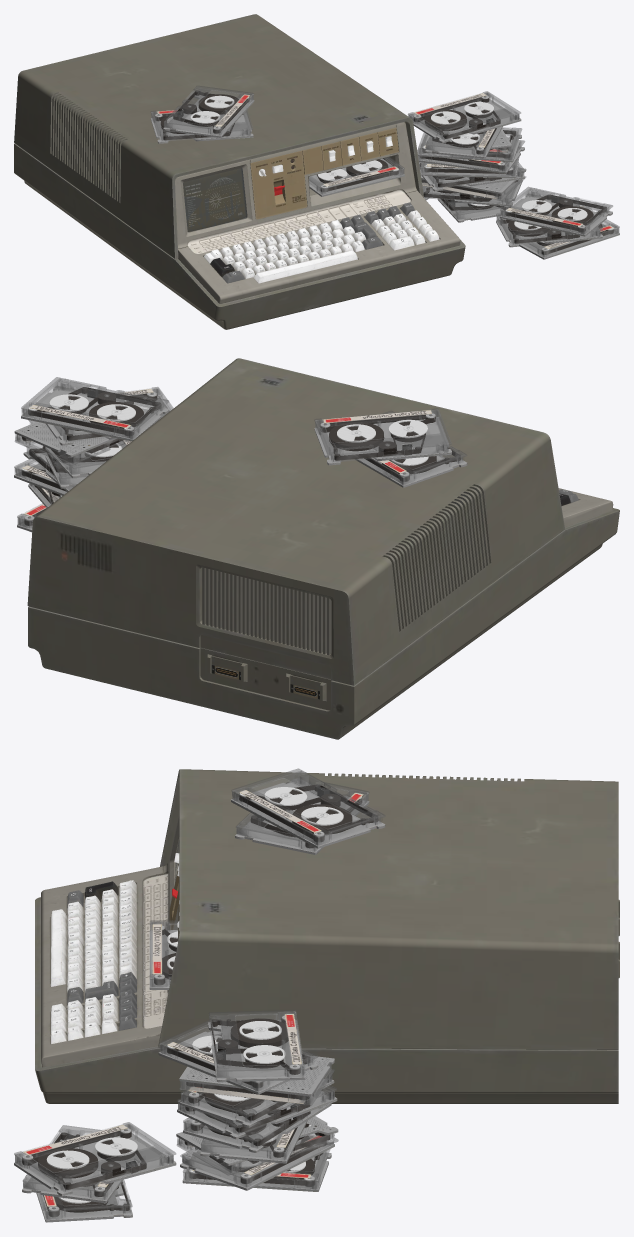
Rendered from ibm5100.web.glb.
3 renders of one model, top to bottom at view 1: azimuth 30°, elevation 25°; view 2: azimuth 150°, elevation 25°; view 3: azimuth 270°, elevation 25°, orthographic. The views are drawn at different scales.
Visible parts, largest first — view 1: IBM5100_Main_low, IBM5100_Front_low, IBM5100_Keys_low, DataCartridge_1_low.002, IBM5100_Glass_low, DataCartridge_2_low3, DataCartridge_2_low.002, DataCartridge_1_low3, DataCartridge_2_low.001, DataCartridge_1_low.001, DataCartridge_1_low.012, DataCartridge_2_low.012 (+22 smaller); view 2: IBM5100_Main_low, IBM5100_Front_low, DataCartridge_1_low.001, DataCartridge_2_low.001, DataCartridge_2_low.002, DataCartridge_1_low.002, DataCartridge_1_low, DataCartridge_2_low, DataCartridge_1_low.004, DataCartridge_1_low.005, DataCartridge_1_low.003, DataCartridge_2_low.004 (+4 smaller); view 3: IBM5100_Main_low, IBM5100_Keys_low, IBM5100_Front_low, DataCartridge_1_low3, DataCartridge_2_low3, DataCartridge_2_low.001, DataCartridge_1_low.001, DataCartridge_2_low.002, DataCartridge_1_low.002, DataCartridge_1_low.009, DataCartridge_1_low.004, DataCartridge_1_low.005 (+23 smaller).
Part boxes in pixels (x1,y1,x2,y2): IBM5100_Main_low: (14, 14, 465, 329); IBM5100_Front_low: (175, 122, 460, 303); IBM5100_Keys_low: (183, 136, 439, 283); DataCartridge_1_low.002: (412, 93, 521, 143); IBM5100_Glass_low: (183, 168, 246, 231); DataCartridge_2_low3: (500, 187, 612, 234); DataCartridge_2_low.002: (408, 91, 520, 140); DataCartridge_1_low3: (500, 194, 612, 236); DataCartridge_2_low.001: (164, 85, 253, 135); DataCartridge_1_low.001: (163, 91, 254, 137); DataCartridge_1_low.012: (309, 158, 404, 196); DataCartridge_2_low.012: (309, 157, 404, 194); IBM5100_Main_low: (27, 358, 619, 739); IBM5100_Front_low: (200, 488, 613, 679); DataCartridge_1_low.001: (314, 410, 451, 465); DataCartridge_2_low.001: (314, 408, 451, 461); DataCartridge_2_low.002: (21, 377, 169, 439); DataCartridge_1_low.002: (21, 386, 168, 441); DataCartridge_1_low: (355, 448, 467, 487); DataCartridge_2_low: (359, 410, 467, 485); DataCartridge_1_low.004: (14, 422, 123, 457); DataCartridge_1_low.005: (45, 440, 131, 478); DataCartridge_1_low.003: (46, 389, 169, 445); DataCartridge_2_low.004: (15, 434, 129, 465); IBM5100_Main_low: (35, 769, 619, 1103); IBM5100_Keys_low: (50, 853, 179, 1043); IBM5100_Front_low: (41, 811, 179, 1067); DataCartridge_1_low3: (14, 1125, 176, 1196); DataCartridge_2_low3: (14, 1122, 175, 1191); DataCartridge_2_low.001: (231, 768, 385, 845); DataCartridge_1_low.001: (231, 779, 385, 848); DataCartridge_2_low.002: (208, 1010, 304, 1078); DataCartridge_1_low.002: (208, 1014, 305, 1082); DataCartridge_1_low.009: (180, 1135, 334, 1190); DataCartridge_1_low.004: (179, 1055, 334, 1103); DataCartridge_1_low.005: (180, 1079, 334, 1127).
Bounding box in the file's own units: 0.22 × 0.0725 × 0.1992.
6 materials, 6 textured.
